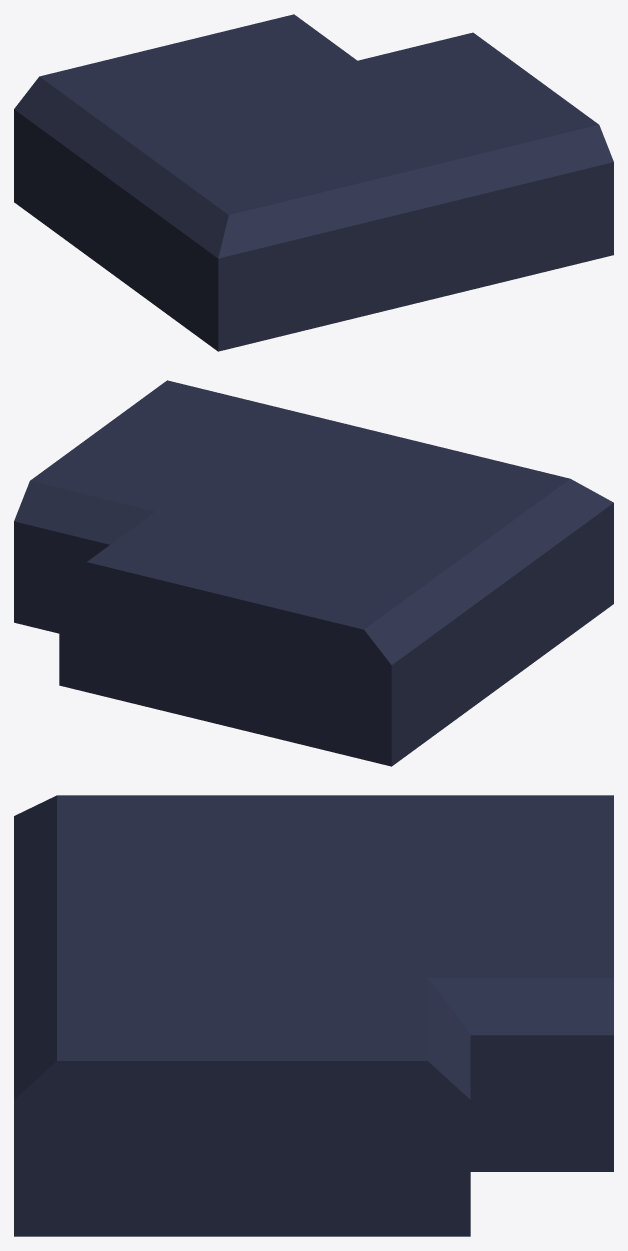
File: Cable_Corner.fbx
3 views of the same model, one above another, from view 1: azimuth 30°, elevation 25°; view 2: azimuth 150°, elevation 25°; view 3: azimuth 270°, elevation 25° (orthographic). The views are drawn at different scales.
Visible parts, largest first — view 1: Cable_Corner; view 2: Cable_Corner; view 3: Cable_Corner.
Boxes of the visible parts, x1,y1,x2,y2 form: Cable_Corner: [14, 14, 613, 351]; Cable_Corner: [14, 380, 613, 766]; Cable_Corner: [14, 795, 613, 1236].
Size of the model in its own units: 130 by 37.4 by 116.
